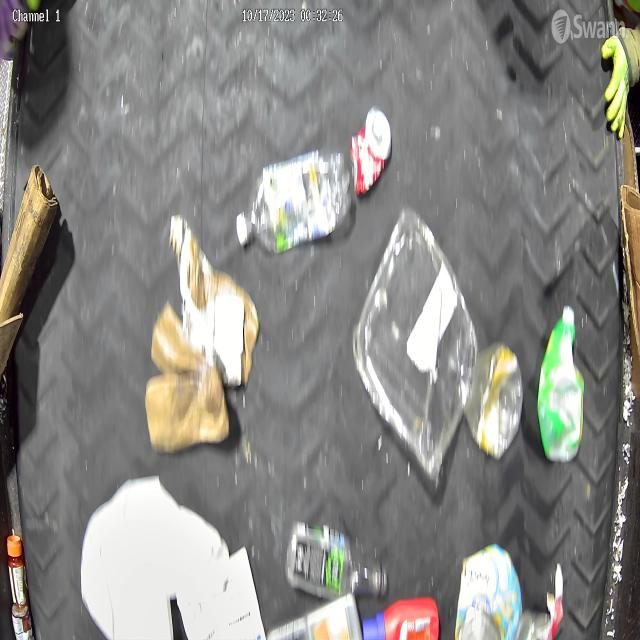can: (350, 105, 393, 197)
milk_jug: (79, 473, 224, 638)
non_white_jug: (536, 302, 584, 464), (361, 595, 442, 640)
plastic_bottle: (236, 149, 351, 253), (282, 523, 386, 601)
